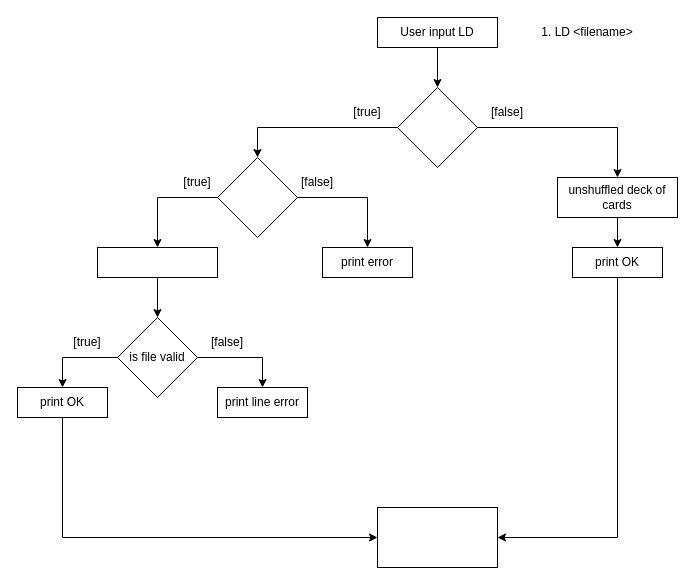
Some shapes in this 695 by 585 pixel diagram are drawn without their labels. Each missing label, with the centre of its shape:
does file exist: (x=257, y=197)
Has file name: (x=437, y=127)
store deck: (x=437, y=537)
validate input file: (x=157, y=262)
